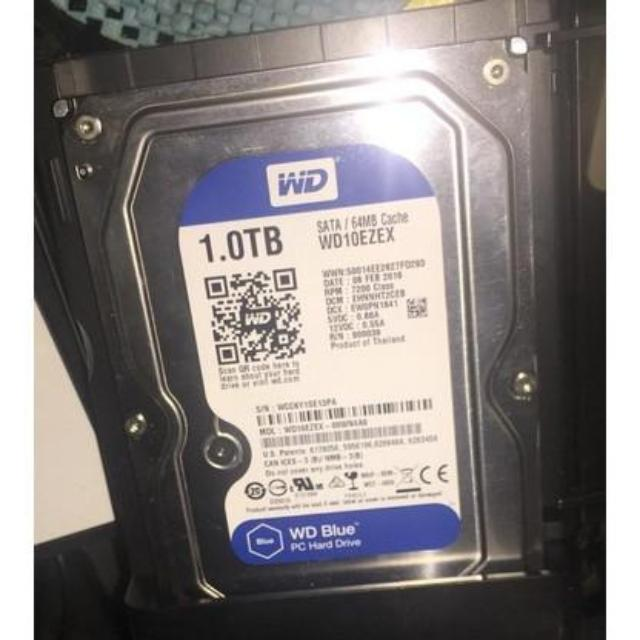DISK: (64, 28, 562, 640)
